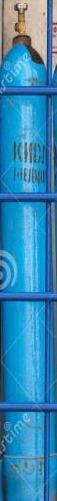cylinder: (1, 1, 57, 501)
